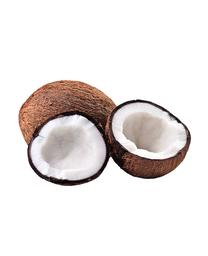coconut: (19, 80, 118, 163), (107, 99, 191, 179), (26, 110, 111, 186)
